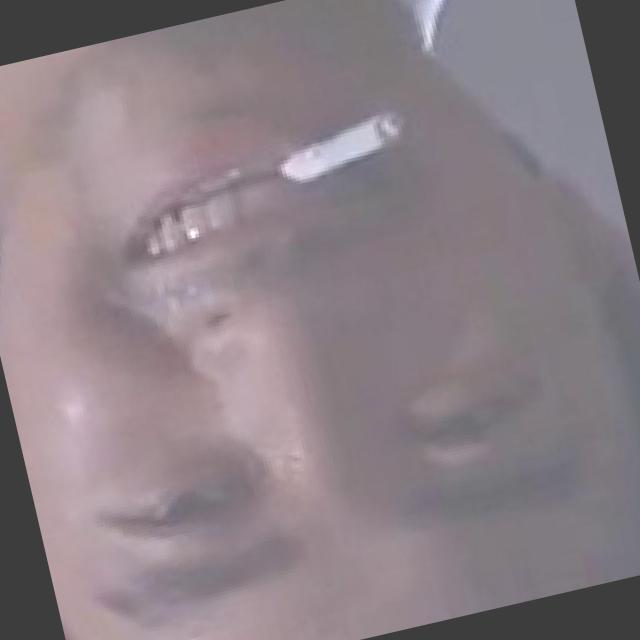cigarette: (276, 116, 417, 192)
